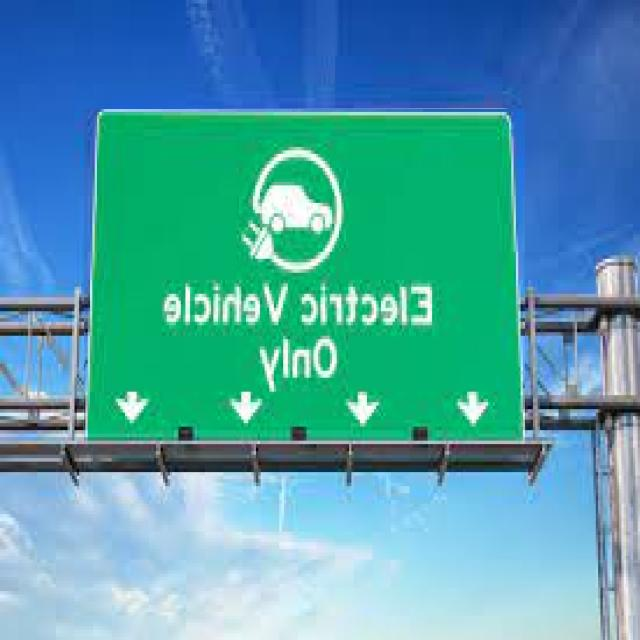street-signs: (84, 109, 525, 444)
